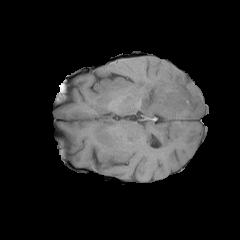glioma: (94, 57, 201, 144)
